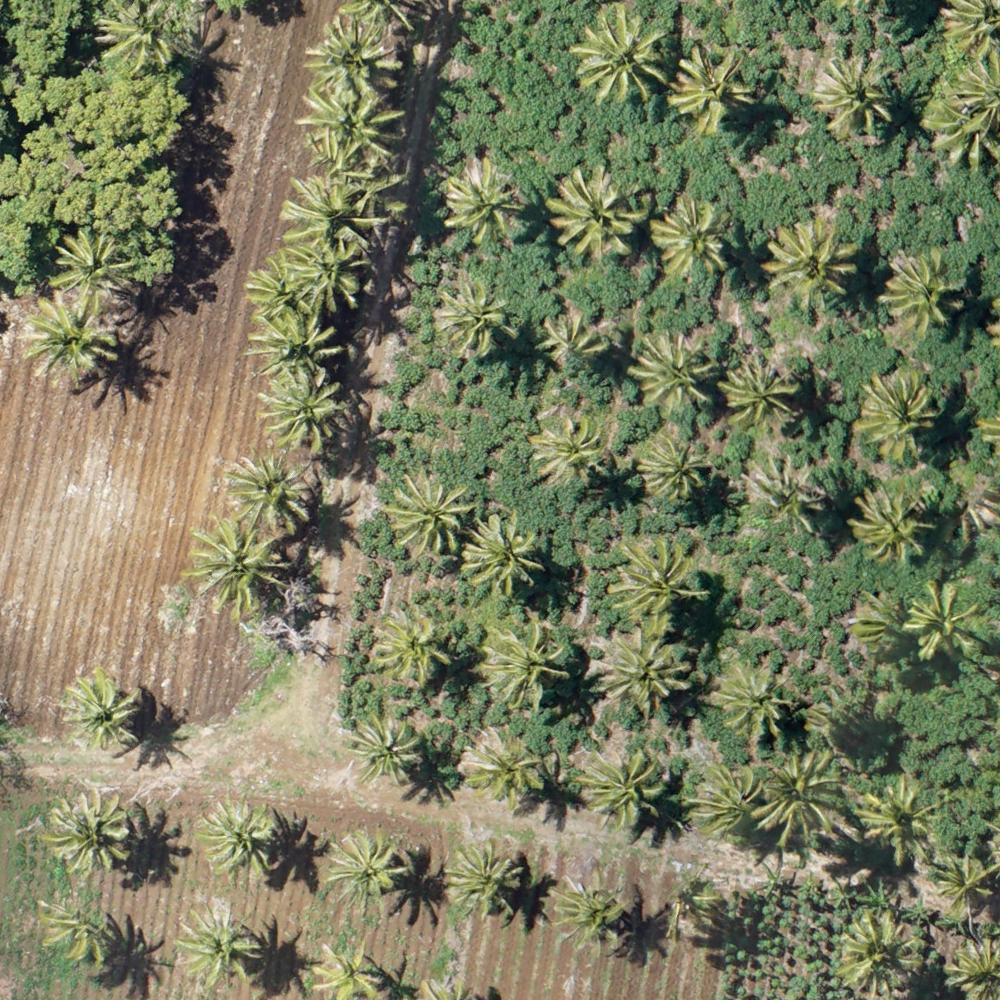Palm: (185, 516, 285, 610), (590, 629, 695, 718), (553, 164, 643, 265), (575, 5, 667, 99), (613, 536, 709, 623), (23, 291, 113, 381), (756, 749, 841, 844), (764, 219, 854, 305), (300, 88, 408, 159), (174, 904, 265, 986), (581, 745, 667, 830), (922, 74, 999, 166), (648, 195, 733, 278), (286, 173, 378, 249), (855, 374, 940, 456), (485, 622, 566, 708), (633, 336, 723, 413), (323, 828, 409, 908), (676, 41, 758, 124), (715, 659, 799, 740), (879, 255, 962, 334), (838, 912, 922, 990), (859, 777, 937, 861), (748, 451, 823, 538), (203, 798, 282, 880), (304, 29, 396, 98), (371, 606, 454, 682), (692, 761, 773, 838), (552, 876, 635, 951), (818, 52, 893, 135), (53, 792, 131, 871), (904, 582, 983, 660), (446, 158, 519, 242), (388, 473, 467, 550), (463, 513, 540, 591), (224, 452, 311, 521), (439, 279, 514, 359), (291, 233, 367, 309), (52, 230, 133, 300), (446, 843, 520, 919), (265, 374, 343, 446), (853, 481, 925, 559), (36, 898, 115, 969), (252, 313, 335, 380), (64, 677, 140, 747), (723, 358, 797, 429), (469, 735, 547, 802), (99, 5, 179, 69), (536, 420, 608, 486), (641, 432, 714, 497), (932, 851, 996, 921), (850, 588, 914, 658), (347, 717, 419, 779), (247, 249, 312, 314), (309, 942, 380, 998), (538, 315, 607, 369)
